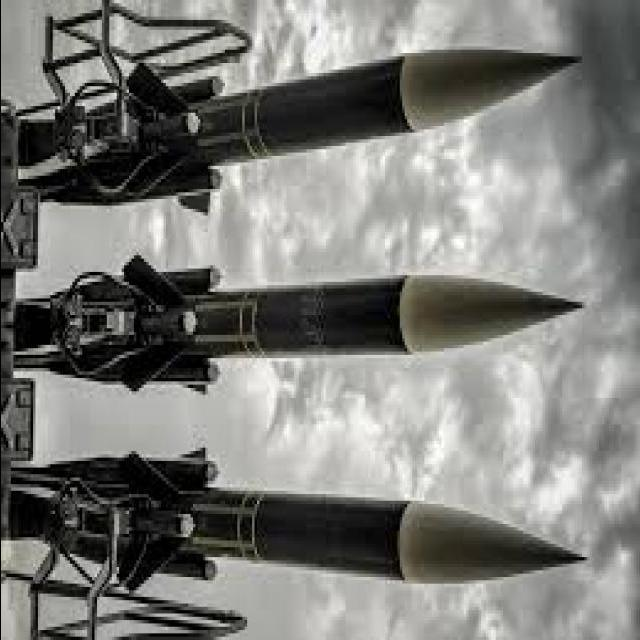Missile: (192, 41, 601, 202), (188, 261, 587, 382), (212, 494, 585, 605)
